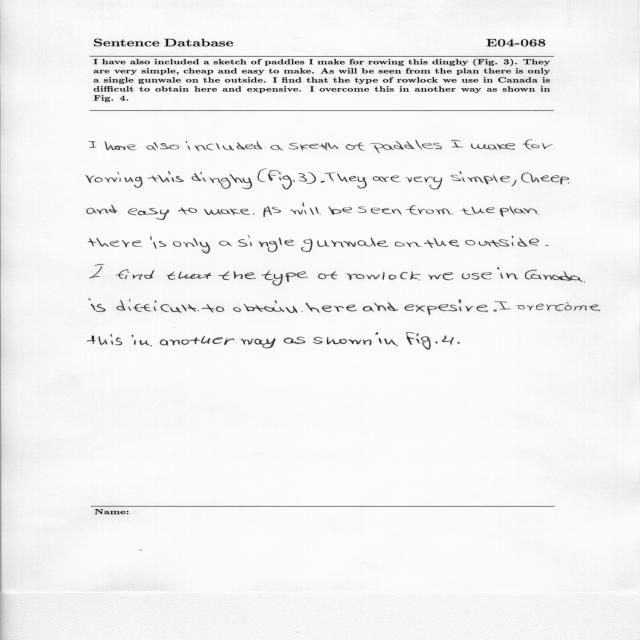word: (404, 299, 488, 315), (301, 237, 388, 252), (116, 299, 199, 313), (192, 172, 252, 189), (370, 140, 442, 154), (451, 171, 516, 186), (238, 235, 294, 252), (233, 300, 303, 313), (86, 172, 142, 188), (465, 236, 539, 247), (525, 270, 585, 283), (186, 141, 262, 151), (516, 303, 600, 312), (160, 336, 234, 346), (262, 270, 308, 286), (347, 271, 421, 280), (406, 332, 438, 350), (267, 170, 295, 190), (173, 238, 210, 253), (306, 303, 357, 313), (128, 208, 169, 220), (89, 238, 143, 247), (406, 205, 453, 215), (406, 177, 442, 190), (313, 337, 371, 345), (288, 142, 339, 151), (529, 174, 570, 185), (337, 174, 367, 189), (500, 206, 539, 217), (116, 269, 155, 280), (167, 271, 212, 280), (148, 171, 184, 182), (88, 334, 123, 345), (291, 203, 321, 215), (424, 238, 460, 248), (358, 207, 402, 215), (363, 302, 398, 312), (218, 271, 256, 280), (241, 338, 275, 348), (471, 143, 515, 150), (376, 332, 398, 346), (523, 140, 553, 150), (104, 142, 137, 151), (147, 142, 180, 151), (204, 209, 250, 215), (497, 267, 518, 280), (87, 205, 117, 214), (461, 207, 494, 215), (462, 272, 492, 280), (132, 335, 152, 347), (90, 264, 105, 279), (89, 299, 106, 312), (328, 206, 352, 215), (151, 236, 167, 249), (299, 172, 316, 184), (429, 273, 454, 281), (263, 206, 281, 217), (202, 304, 224, 313), (373, 176, 400, 183), (346, 142, 366, 151), (318, 272, 338, 280), (178, 207, 197, 215), (284, 337, 305, 344), (395, 242, 421, 247), (495, 302, 511, 310), (442, 335, 454, 345), (258, 169, 267, 182), (521, 172, 530, 183), (451, 140, 463, 148), (324, 173, 336, 181), (271, 145, 284, 150), (219, 241, 232, 246), (89, 141, 96, 148), (320, 181, 325, 183), (494, 310, 497, 312), (545, 245, 549, 246), (458, 342, 460, 344), (253, 213, 254, 215)
